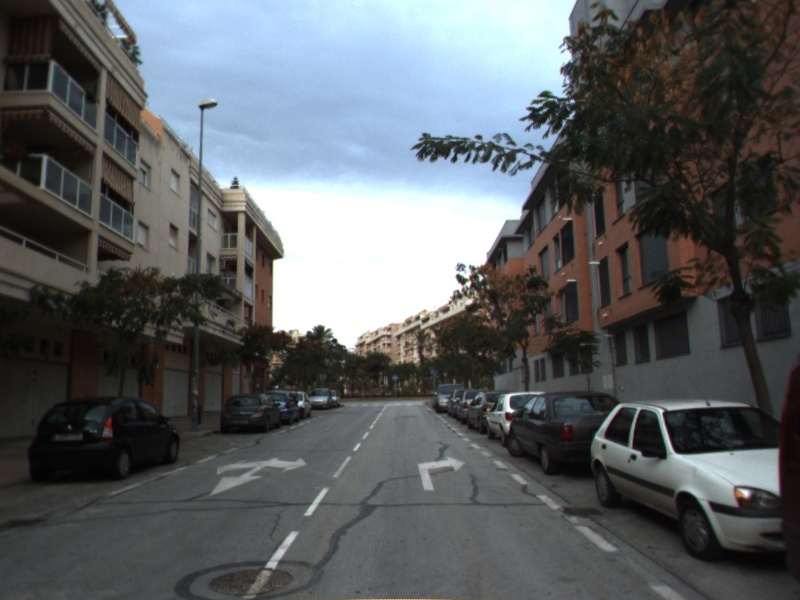RIGHT: (416, 454, 467, 492)
